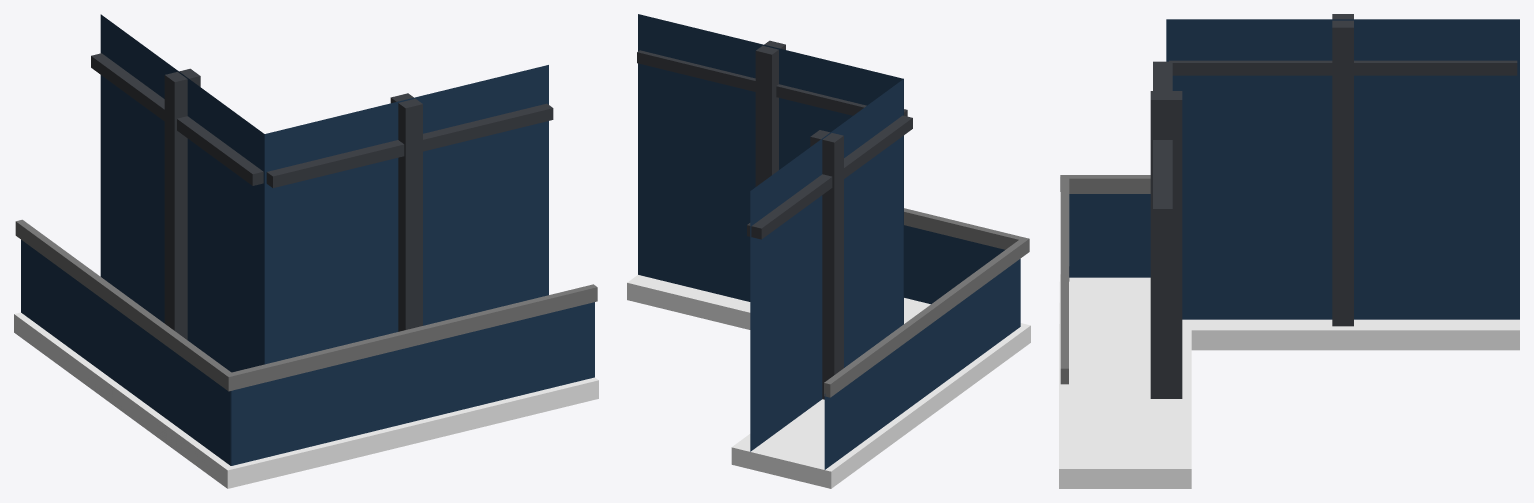
Rendered from mid-c1.fbx.
3 renders of one model, left to right at view 1: azimuth 30°, elevation 25°; view 2: azimuth 150°, elevation 25°; view 3: azimuth 270°, elevation 25°, orthographic. The views are drawn at different scales.
Visible parts, largest first — view 1: M_Corner.001; view 2: M_Corner.001; view 3: M_Corner.001.
Boxes of the visible parts, x1,y1,x2,y2 form: M_Corner.001: [14, 14, 598, 488]; M_Corner.001: [627, 14, 1030, 488]; M_Corner.001: [1059, 14, 1519, 488].
Bounding box in the file's own units: 5.22 × 4 × 5.22.
